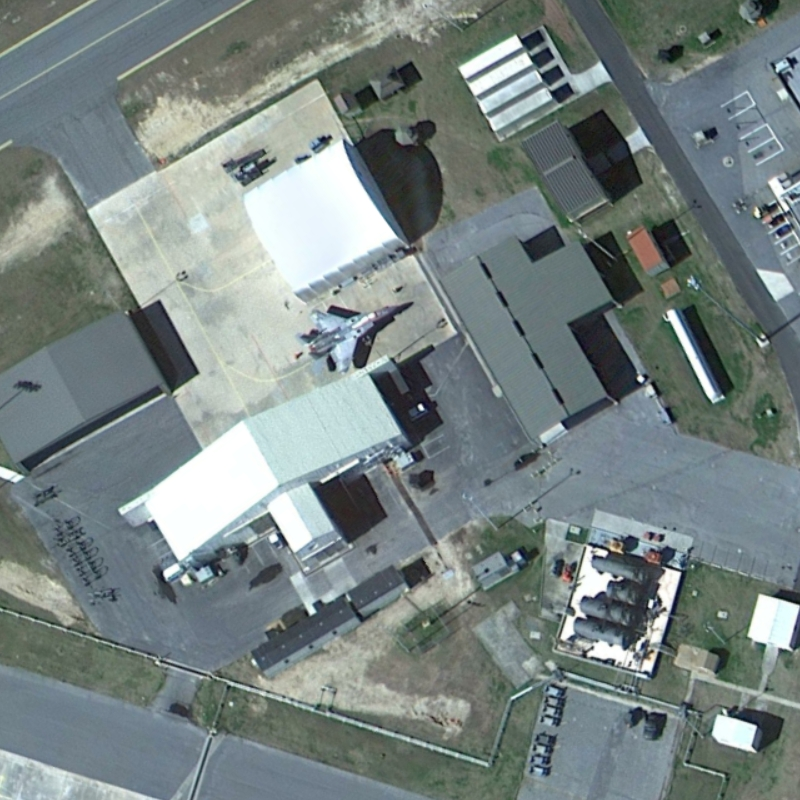A13: (291, 297, 405, 378)
